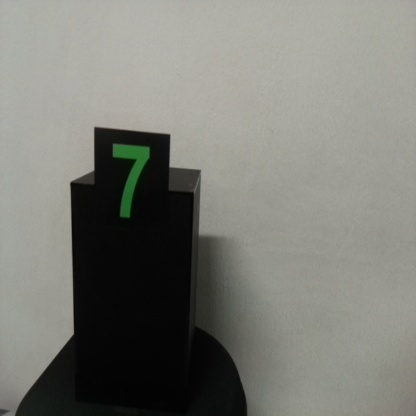id_7: (94, 129, 172, 258)
